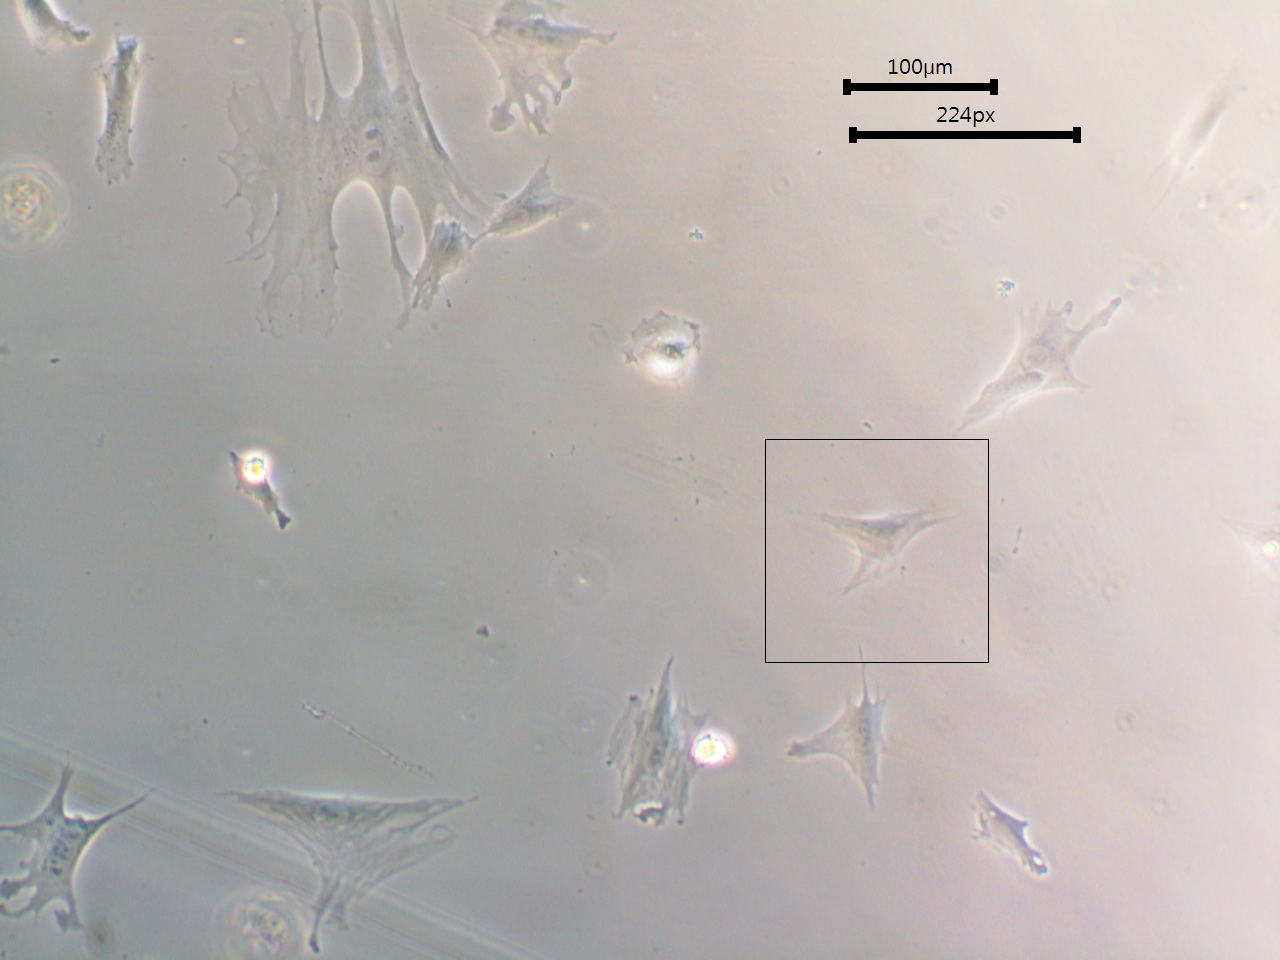dividing: (462, 1, 627, 133)
large-polygonal: (220, 778, 477, 939)
large-spread: (221, 5, 487, 349)
medium-polygonal: (7, 765, 168, 960), (779, 654, 909, 822), (796, 491, 947, 612), (597, 648, 696, 831), (87, 22, 152, 197)
small-polygonal: (406, 218, 494, 321), (482, 157, 577, 249)
small-spread: (624, 302, 717, 393)
